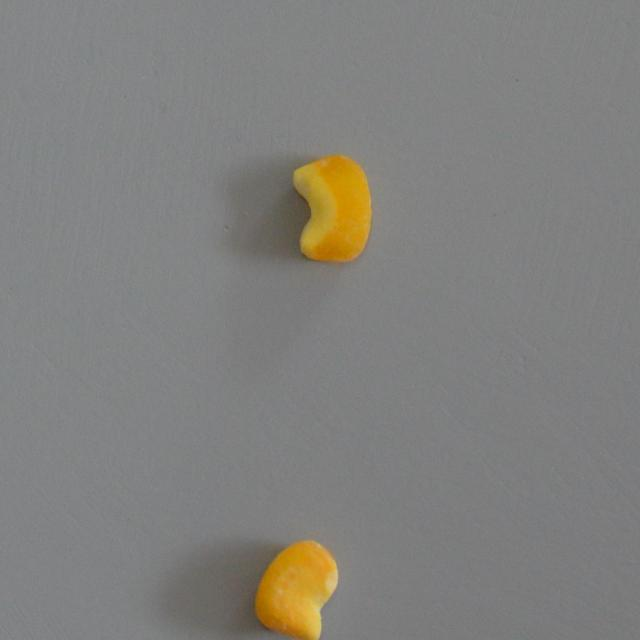no_canjicado: (252, 537, 338, 639), (290, 154, 370, 262)
